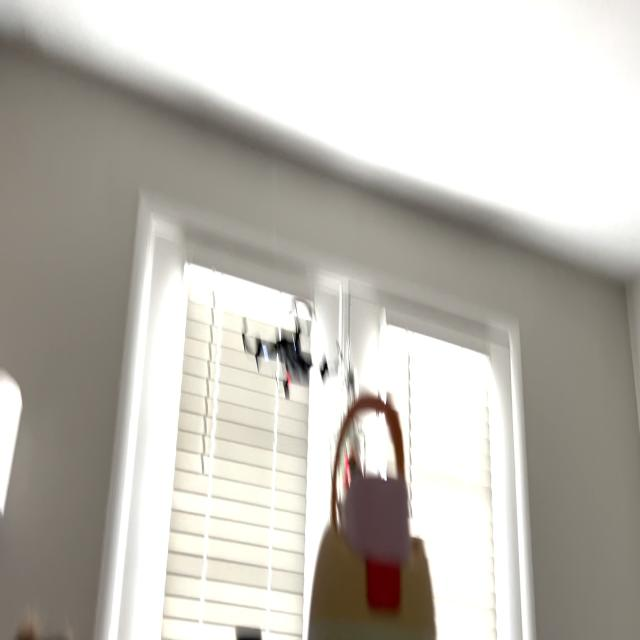drone: (229, 280, 347, 404)
